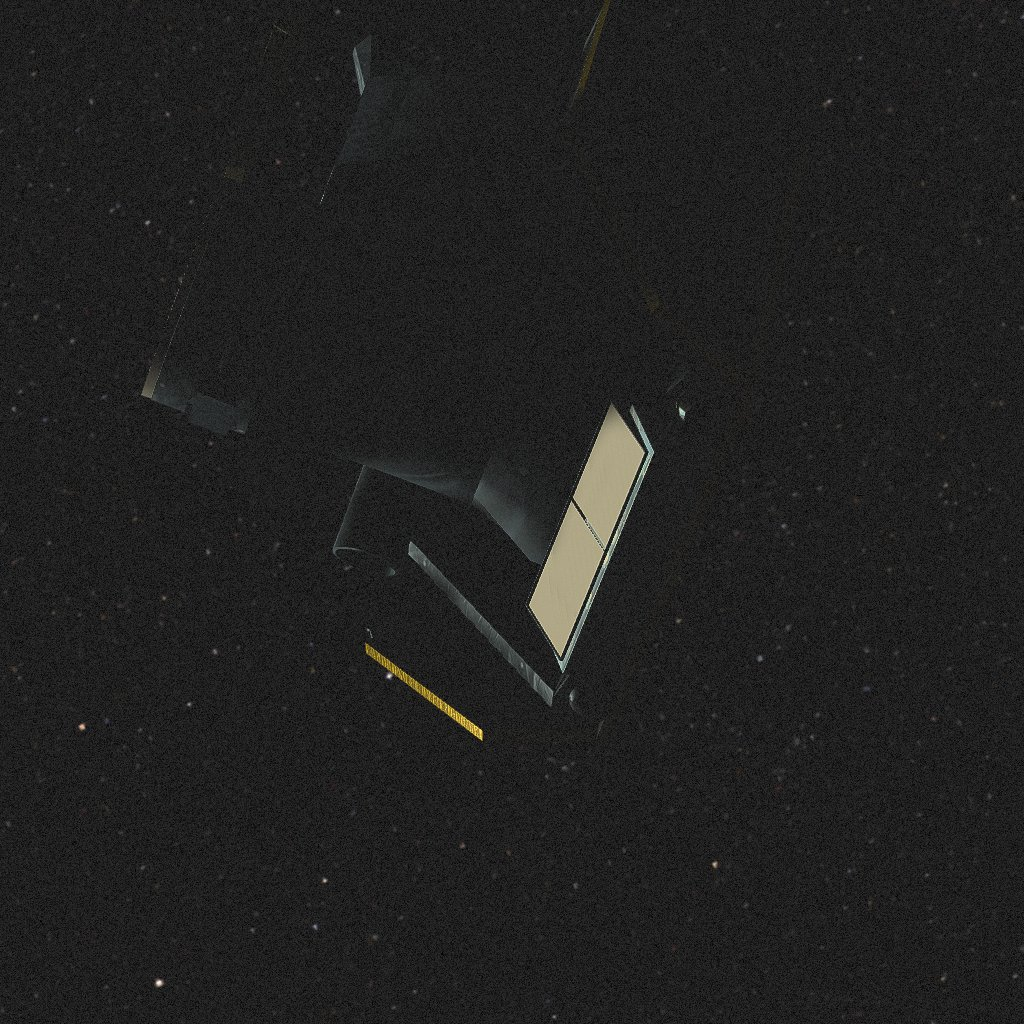cheops: (128, 12, 780, 717)
